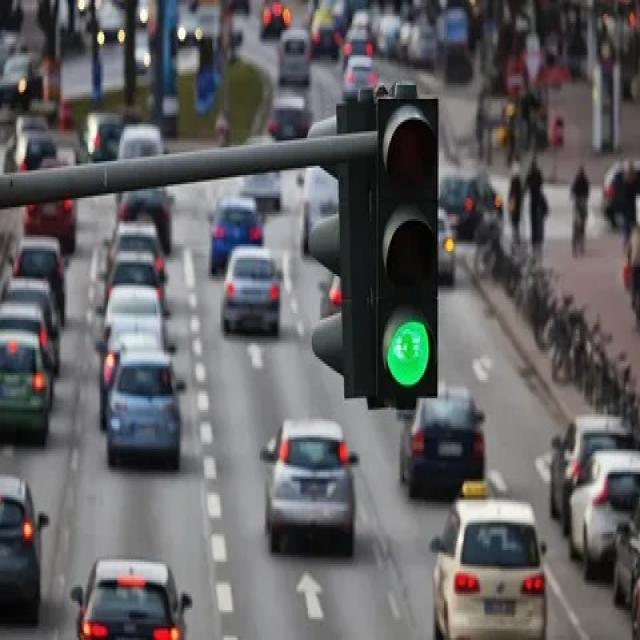yesil: (373, 101, 437, 403)
